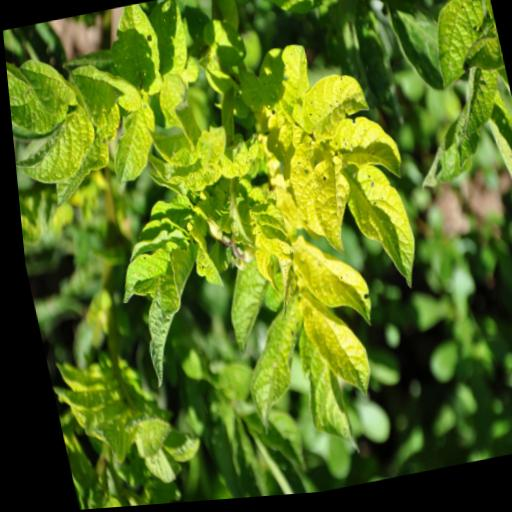Yellow Leaf Curl Virus: (120, 241, 217, 393), (332, 167, 430, 297), (218, 312, 309, 442), (284, 288, 370, 410), (281, 221, 372, 336), (284, 327, 352, 469), (416, 0, 506, 100), (8, 103, 102, 196), (100, 229, 189, 318), (294, 145, 356, 270), (92, 88, 164, 190), (63, 55, 144, 143), (289, 72, 373, 154), (100, 2, 165, 102), (324, 115, 402, 197), (264, 43, 315, 130), (144, 0, 194, 85), (186, 120, 233, 192), (178, 218, 219, 297), (241, 198, 288, 259), (211, 136, 262, 188)
